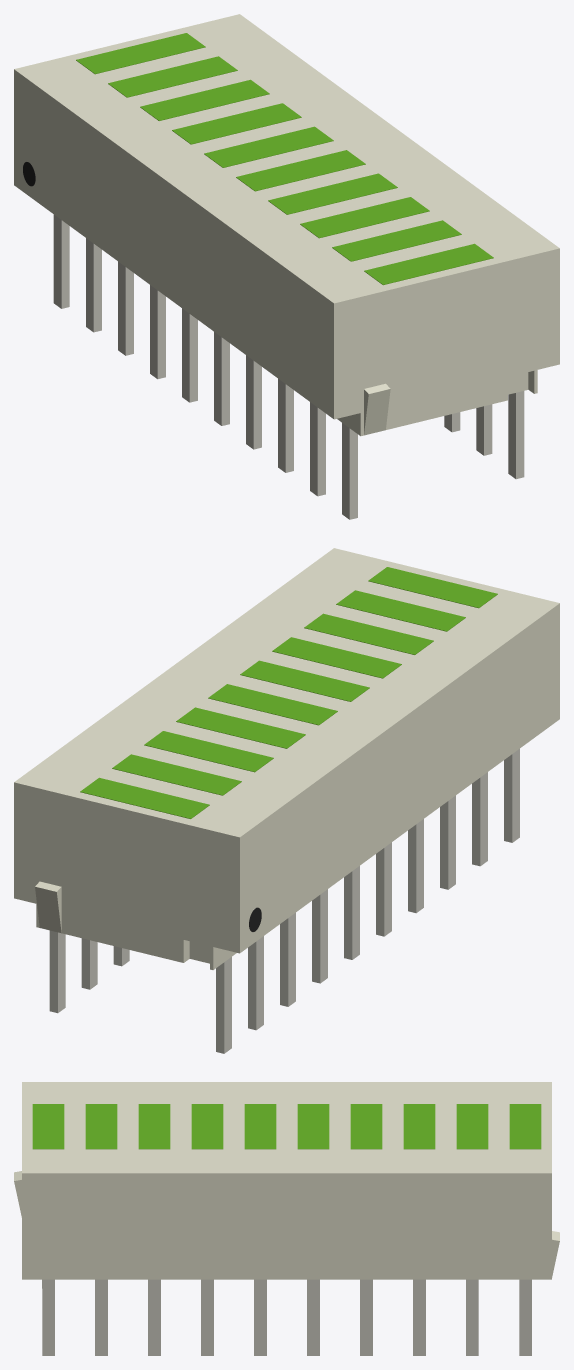
Rendered from kc-hdsp-4850.glb.
The picture shows the model from 3 angles, top to bottom: view 1: azimuth 30°, elevation 25°; view 2: azimuth 150°, elevation 25°; view 3: azimuth 270°, elevation 25°; orthographic projection. The views are drawn at different scales.
Visible parts, largest first — view 1: 0.75_0.75_0.6666666666666666_0, 0.16666666666666666_0.4166666666666667_0_0, 0.6666666666666666_0.6666666666666666_0.5833333333333334_0.8; view 2: 0.75_0.75_0.6666666666666666_0, 0.16666666666666666_0.4166666666666667_0_0, 0.6666666666666666_0.6666666666666666_0.5833333333333334_0.8; view 3: 0.75_0.75_0.6666666666666666_0, 0.16666666666666666_0.4166666666666667_0_0, 0.6666666666666666_0.6666666666666666_0.5833333333333334_0.8.
Boxes of the visible parts, x1,y1,x2,y2 form: 0.75_0.75_0.6666666666666666_0: (14, 14, 559, 436); 0.16666666666666666_0.4166666666666667_0_0: (76, 33, 493, 285); 0.6666666666666666_0.6666666666666666_0.5833333333333334_0.8: (53, 214, 524, 519); 0.75_0.75_0.6666666666666666_0: (14, 548, 559, 969); 0.16666666666666666_0.4166666666666667_0_0: (80, 567, 497, 818); 0.6666666666666666_0.6666666666666666_0.5833333333333334_0.8: (49, 749, 519, 1053); 0.75_0.75_0.6666666666666666_0: (14, 1082, 559, 1279); 0.16666666666666666_0.4166666666666667_0_0: (32, 1104, 541, 1149); 0.6666666666666666_0.6666666666666666_0.5833333333333334_0.8: (42, 1279, 531, 1355).
Bounding box in the file's own units: 1.04 × 1.02 × 2.62.
